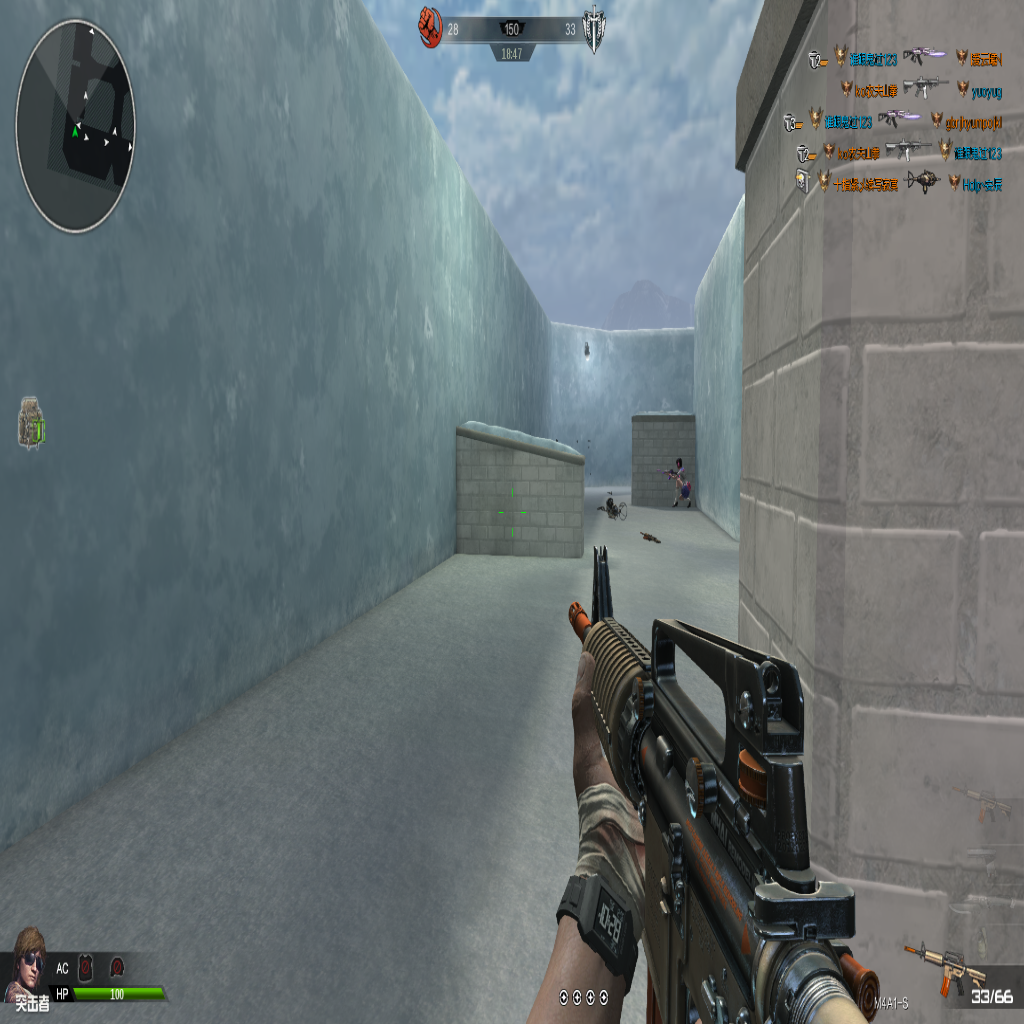tt: (663, 457, 690, 503)
